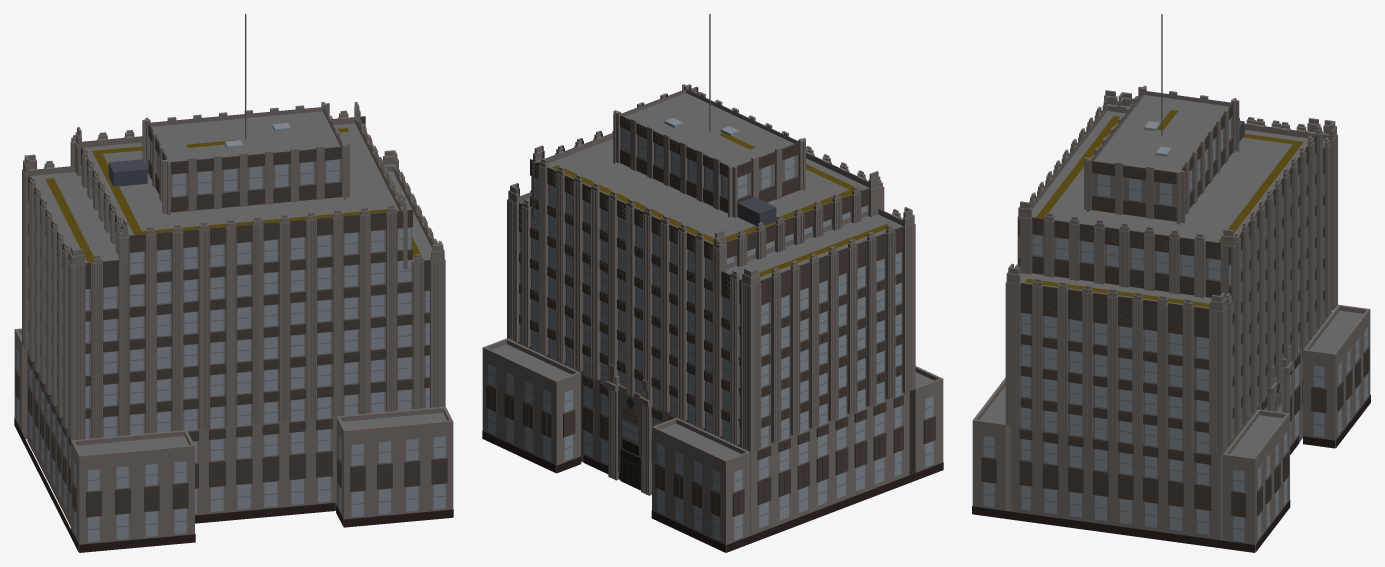
3 views of the same model, side by side, from view 1: azimuth 30°, elevation 25°; view 2: azimuth 150°, elevation 25°; view 3: azimuth 270°, elevation 25° (orthographic). The views are drawn at different scales.
Parts seen in each view (by area): view 1: opaque, glass; view 2: opaque, glass; view 3: opaque, glass.
Part boxes in pixels (box(x1,y1,x2,y2)): opaque: box(14, 14, 453, 552); glass: box(17, 123, 445, 541); opaque: box(482, 14, 943, 552); glass: box(488, 118, 933, 540); opaque: box(972, 14, 1370, 552); glass: box(983, 118, 1367, 541).
Size of the model in its own units: 45.97 by 50.6 by 40.87.
Materials: 2 (1 with a texture image).
